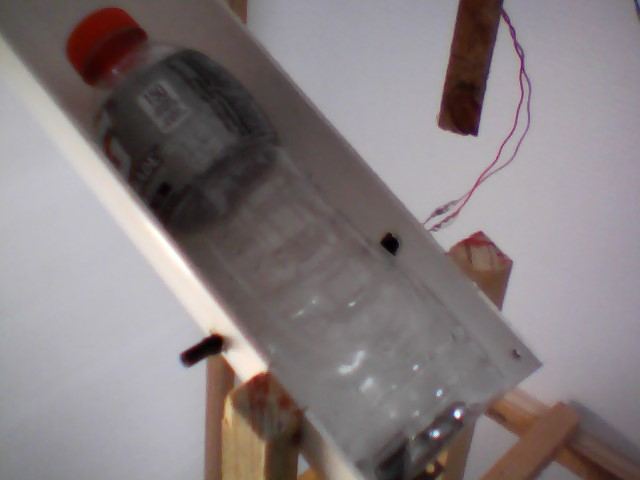plastico: (62, 4, 507, 480)
